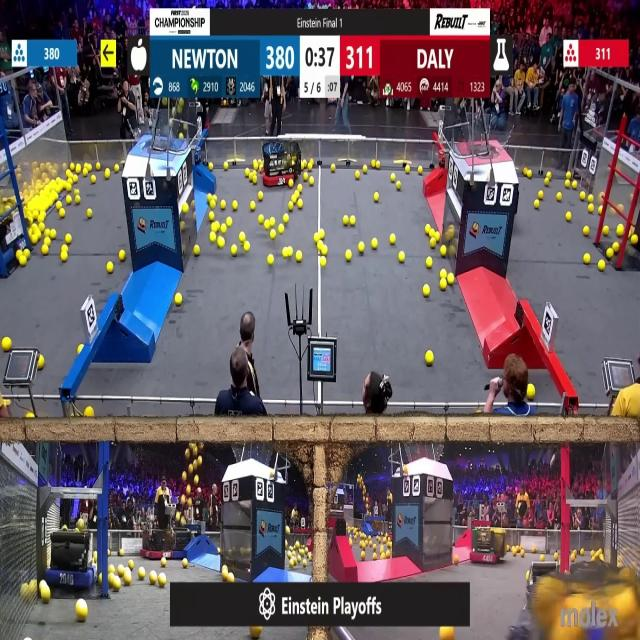ball_airborne: (184, 450, 190, 460), (198, 456, 204, 466), (187, 463, 193, 472), (186, 497, 192, 506), (182, 471, 188, 480), (180, 496, 186, 504), (193, 474, 198, 483), (186, 486, 190, 496), (179, 133, 184, 141), (180, 519, 185, 526), (176, 513, 180, 521)
ball_ground: (76, 600, 87, 621), (40, 584, 51, 604), (442, 627, 454, 640), (2, 338, 11, 353), (527, 384, 535, 400), (425, 351, 434, 365), (159, 573, 167, 586), (122, 573, 130, 585), (86, 409, 95, 419), (282, 247, 290, 258), (175, 292, 182, 304), (426, 256, 433, 268), (37, 356, 44, 368), (18, 256, 26, 266), (598, 261, 605, 272), (618, 224, 625, 235), (118, 250, 125, 261), (389, 235, 396, 246), (149, 572, 156, 583), (423, 284, 429, 296), (295, 250, 301, 262), (346, 250, 352, 262), (359, 240, 365, 252), (448, 274, 454, 286), (602, 225, 609, 235), (397, 252, 404, 262), (606, 249, 613, 259), (349, 216, 356, 226), (226, 572, 233, 582), (108, 574, 115, 584), (449, 246, 456, 256), (370, 239, 376, 250), (107, 263, 113, 274), (232, 245, 238, 256), (320, 256, 326, 267), (114, 580, 120, 591), (116, 566, 124, 574), (270, 217, 277, 226), (219, 223, 226, 232), (614, 243, 621, 252), (269, 254, 275, 264), (192, 246, 198, 256), (240, 233, 246, 243), (585, 253, 591, 263), (50, 230, 56, 240), (66, 235, 72, 245), (139, 568, 145, 578), (244, 242, 250, 252), (442, 246, 448, 256), (62, 252, 68, 262), (584, 225, 590, 235), (442, 280, 448, 290), (278, 224, 284, 234), (424, 224, 430, 234), (314, 234, 320, 244), (372, 193, 378, 203), (182, 204, 188, 214), (632, 236, 638, 246), (221, 566, 227, 576), (210, 234, 217, 242), (564, 180, 571, 188), (250, 202, 256, 211), (283, 214, 289, 223), (42, 246, 48, 255), (218, 239, 224, 248), (220, 201, 226, 210), (556, 191, 562, 200), (182, 559, 188, 568), (441, 271, 447, 280), (265, 220, 271, 229), (430, 239, 436, 248), (210, 201, 216, 210), (434, 233, 440, 242), (38, 222, 44, 231), (66, 182, 72, 191), (75, 166, 81, 175), (32, 236, 38, 245), (453, 556, 459, 565), (88, 209, 93, 219), (566, 212, 571, 222), (105, 170, 110, 180), (319, 232, 324, 242), (162, 559, 168, 567), (296, 201, 302, 209), (579, 191, 585, 199), (212, 222, 218, 230), (355, 172, 361, 180), (270, 232, 276, 240), (406, 165, 412, 173), (362, 166, 368, 174), (244, 169, 250, 177), (25, 249, 31, 257), (566, 172, 572, 180), (291, 192, 297, 200), (66, 170, 72, 178), (108, 564, 114, 572), (78, 345, 84, 353), (82, 168, 88, 176), (316, 242, 322, 250), (252, 162, 258, 170), (61, 209, 66, 218), (226, 217, 231, 226), (571, 180, 576, 189), (75, 197, 80, 206), (258, 215, 263, 224), (589, 193, 594, 202), (534, 200, 539, 209), (209, 212, 214, 221), (180, 221, 185, 230), (418, 168, 424, 175), (598, 207, 604, 214), (43, 238, 49, 245), (92, 175, 97, 183), (234, 201, 238, 211), (589, 205, 594, 213), (321, 247, 326, 255), (288, 204, 293, 212), (130, 561, 135, 569), (344, 215, 348, 225), (67, 197, 72, 205), (330, 165, 335, 173), (390, 174, 395, 182), (297, 183, 302, 191), (360, 552, 365, 560), (527, 170, 532, 178), (288, 180, 293, 188), (371, 554, 376, 562), (73, 175, 78, 183), (555, 553, 560, 561), (306, 161, 311, 169), (396, 181, 400, 190), (28, 414, 34, 420), (100, 573, 104, 582), (114, 166, 119, 173), (307, 180, 312, 187), (539, 554, 544, 561), (57, 202, 62, 209), (570, 555, 575, 562), (370, 162, 375, 169), (258, 191, 262, 199), (538, 190, 542, 198), (544, 178, 548, 186), (252, 176, 256, 184), (209, 164, 213, 172), (97, 164, 101, 172), (580, 550, 584, 558), (377, 162, 381, 170), (289, 560, 293, 568), (387, 552, 391, 560), (381, 554, 386, 560), (224, 164, 228, 171), (546, 172, 550, 179), (208, 192, 212, 199), (532, 545, 536, 552), (89, 166, 93, 173), (119, 551, 123, 557), (217, 547, 221, 553), (304, 561, 308, 567), (522, 552, 525, 559), (108, 551, 111, 557)
goal: (460, 118, 516, 158), (128, 116, 188, 152)
robot_blue: (48, 524, 96, 590), (0, 197, 26, 274), (171, 527, 202, 562)
robot_red: (262, 138, 304, 186), (472, 527, 507, 565), (141, 529, 176, 558)
